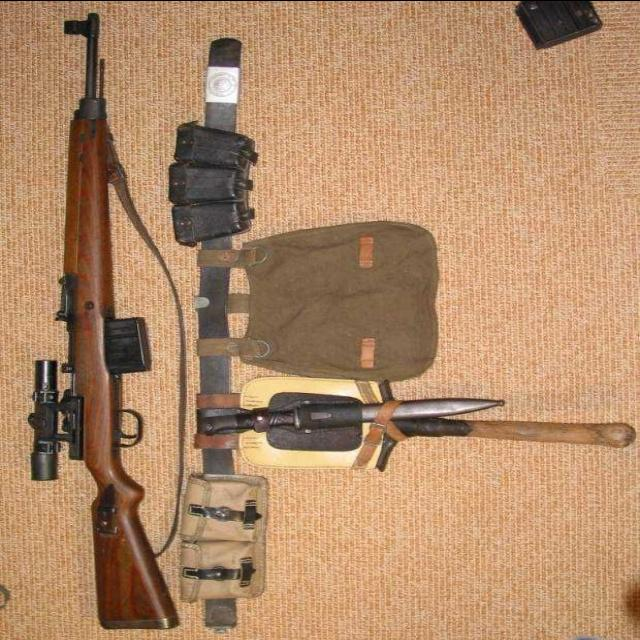heavyweapon: (37, 4, 183, 632)
